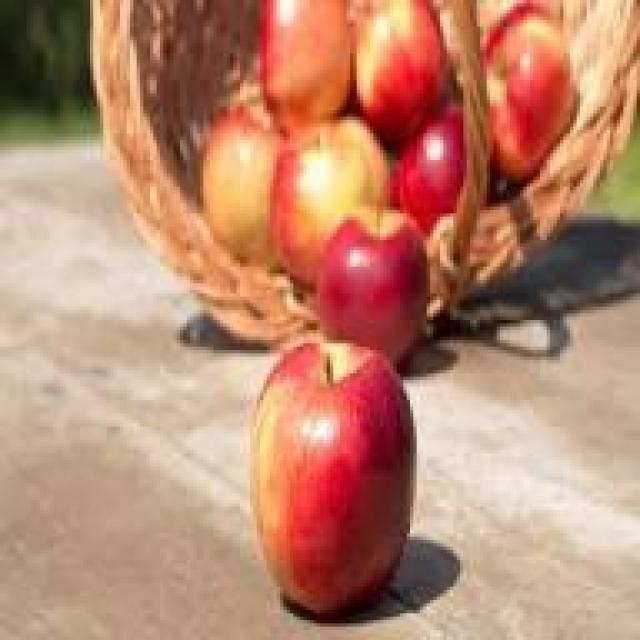apple: (246, 357, 426, 623), (307, 213, 430, 367), (473, 10, 587, 160), (270, 123, 383, 257), (393, 106, 500, 236), (346, 10, 456, 127), (197, 113, 280, 260)
